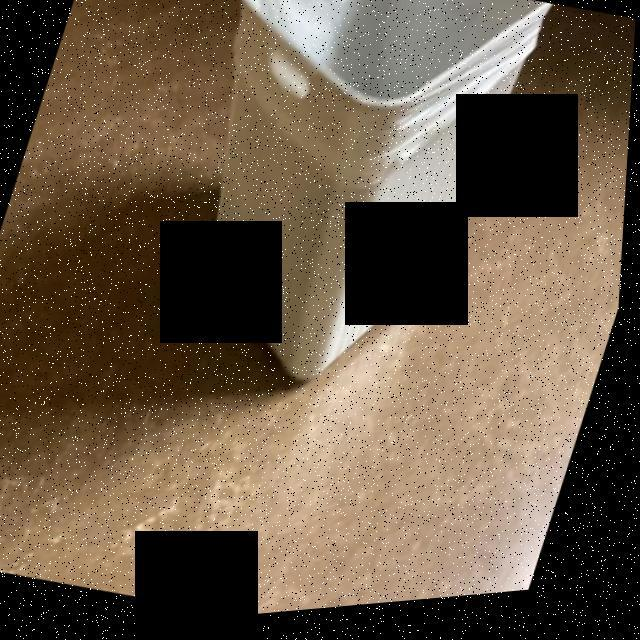bin: (106, 0, 580, 457)
